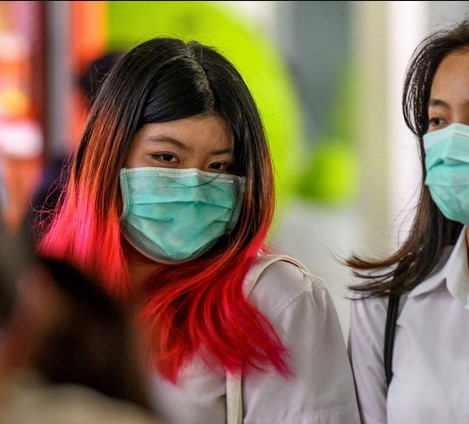face_with_mask: (101, 40, 251, 266), (412, 29, 464, 229)
